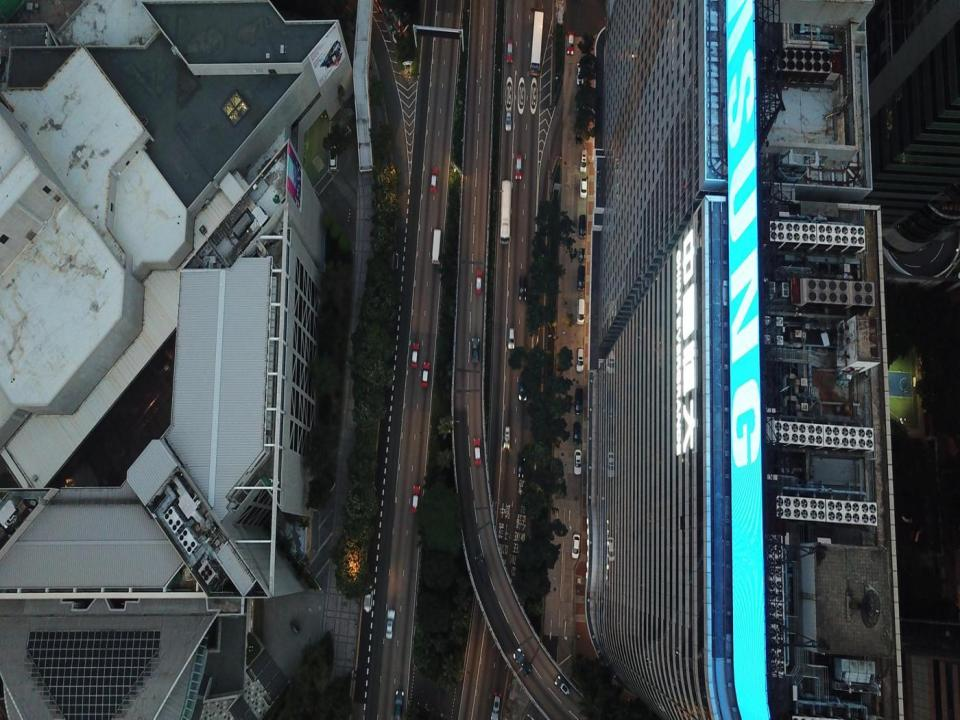car: (512, 649, 532, 674), (394, 690, 404, 719), (386, 608, 395, 640), (363, 585, 373, 613), (472, 438, 482, 465), (555, 676, 569, 695), (491, 693, 501, 719), (516, 452, 526, 477), (575, 388, 584, 414), (518, 376, 527, 401), (412, 486, 420, 514), (575, 120, 584, 144), (571, 534, 580, 558), (506, 38, 514, 62), (576, 348, 584, 372), (574, 450, 582, 474), (411, 343, 419, 367), (566, 31, 574, 54), (573, 421, 581, 444), (515, 155, 522, 180), (519, 275, 526, 300), (430, 168, 437, 192), (475, 270, 482, 294), (576, 63, 584, 84), (472, 338, 479, 362), (422, 362, 429, 386), (504, 112, 512, 132), (503, 426, 510, 448), (578, 249, 586, 262)
truck: (529, 11, 544, 76), (499, 180, 512, 243), (432, 229, 440, 263)
van: (576, 298, 585, 324), (328, 145, 338, 168), (579, 149, 587, 173), (578, 214, 586, 238), (577, 266, 585, 290), (508, 327, 515, 349), (580, 178, 587, 198)
